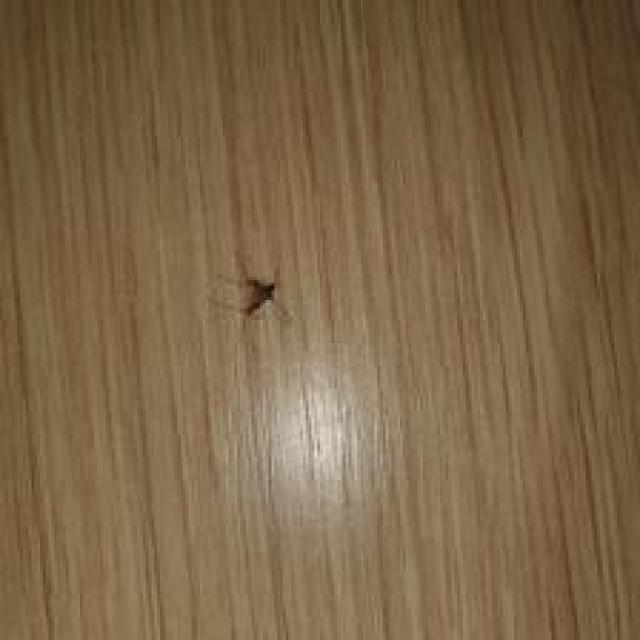Culex: (207, 250, 293, 324)
